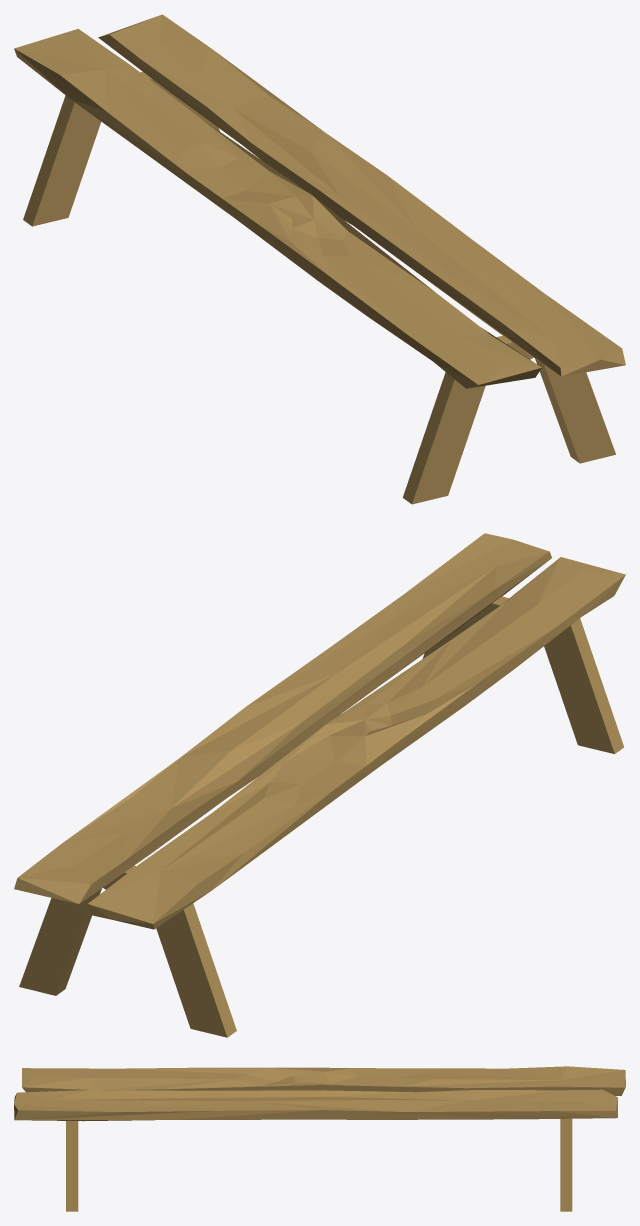
File: Banc.fbx
3 views of the same model, one above another, from view 1: azimuth 30°, elevation 25°; view 2: azimuth 150°, elevation 25°; view 3: azimuth 270°, elevation 25° (orthographic). The views are drawn at different scales.
Visible parts, largest first — view 1: Cube.012; view 2: Cube.012; view 3: Cube.012.
Part boxes in pixels (x1,y1,x2,y2): Cube.012: (14, 14, 625, 504); Cube.012: (14, 533, 625, 1037); Cube.012: (14, 1066, 625, 1211).
Bounding box in the file's own units: 123 × 81.62 × 489.
